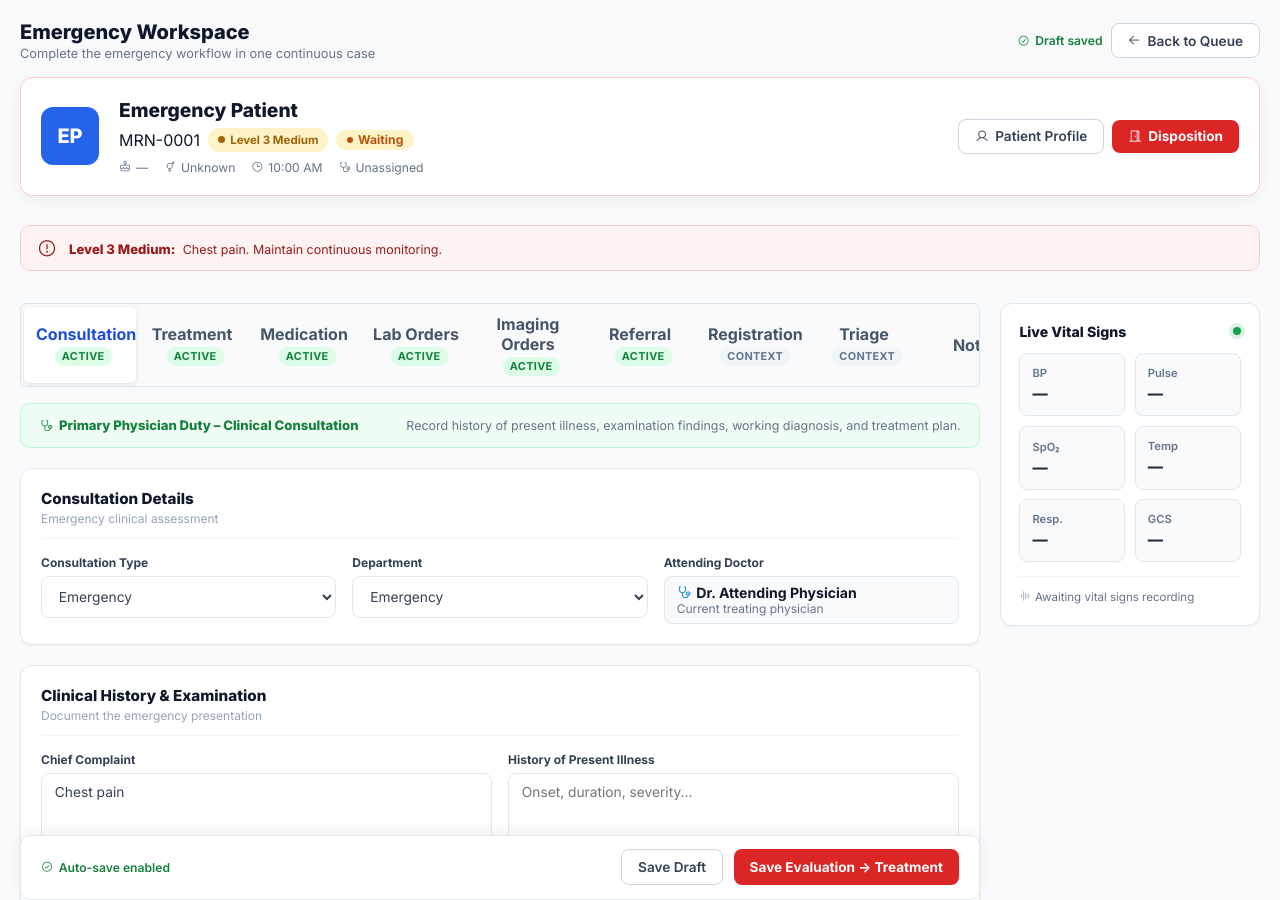
Scenario: EmergencyWorkspacePage feature-hook rendering › renders clinical workflow tabs for doctor permissions and defaults to Consultation
Click the button "Triage Context" at (864, 345), box [808, 307, 920, 383]
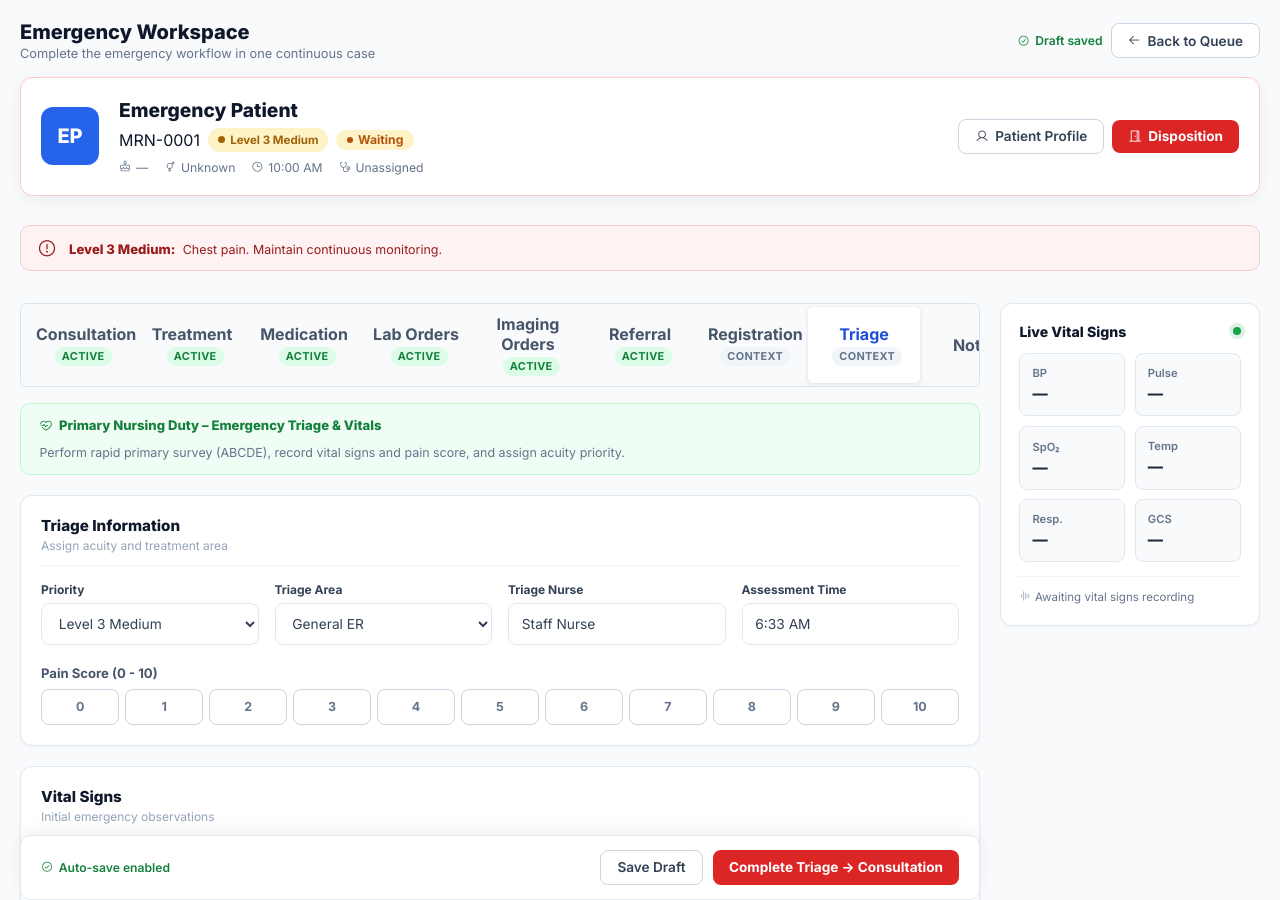
Result: the text "Complete Triage" is shown at [713, 850, 959, 885]
